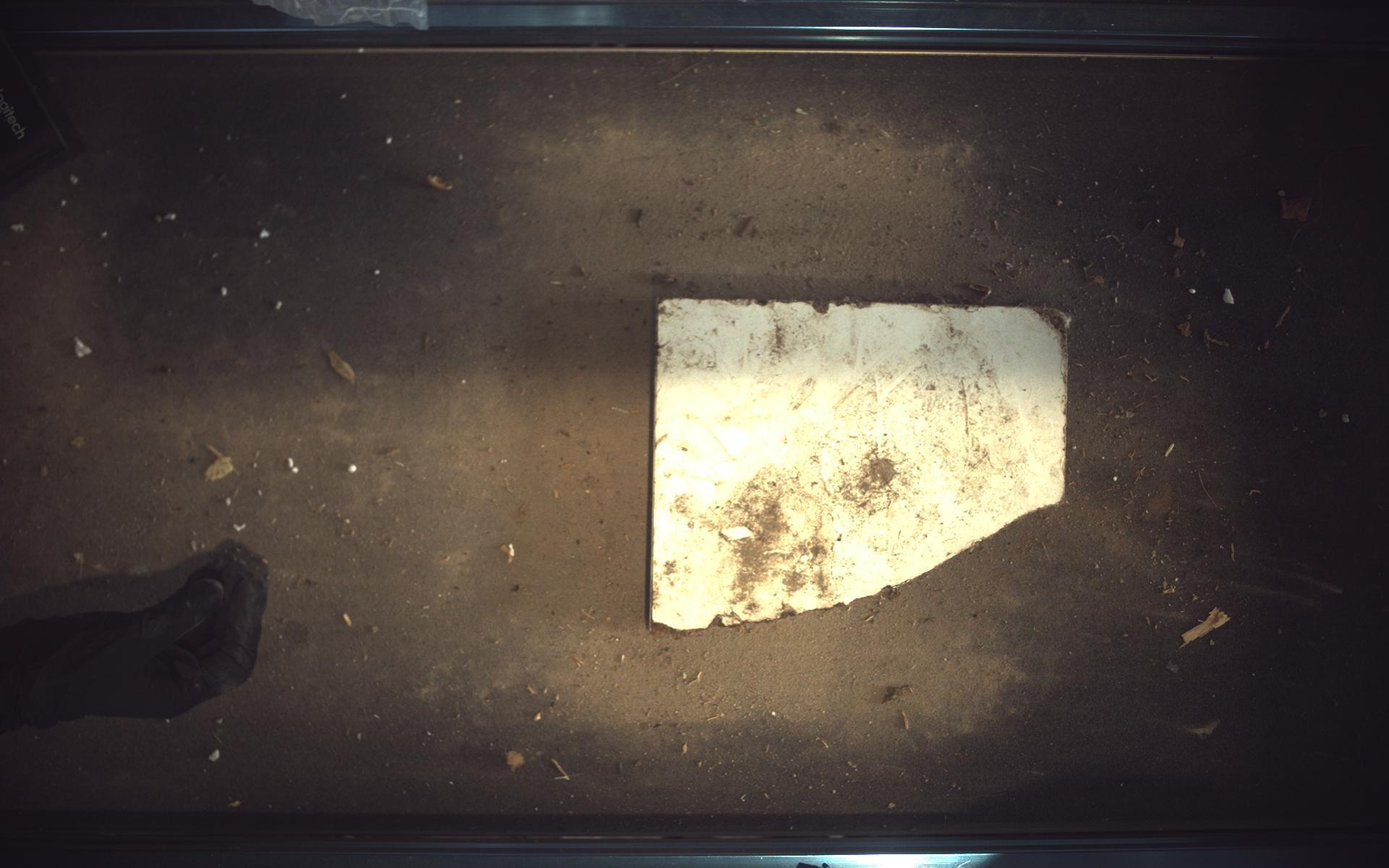wood: (651, 298, 1070, 631)
